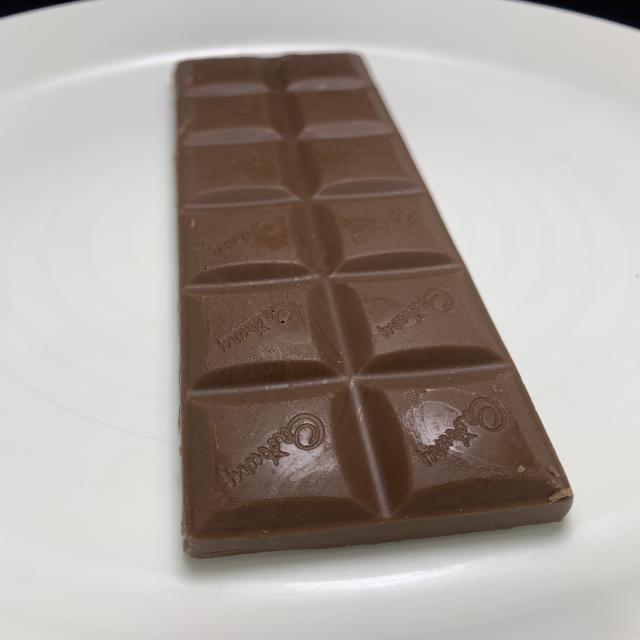Chocolate: (167, 51, 574, 557)
